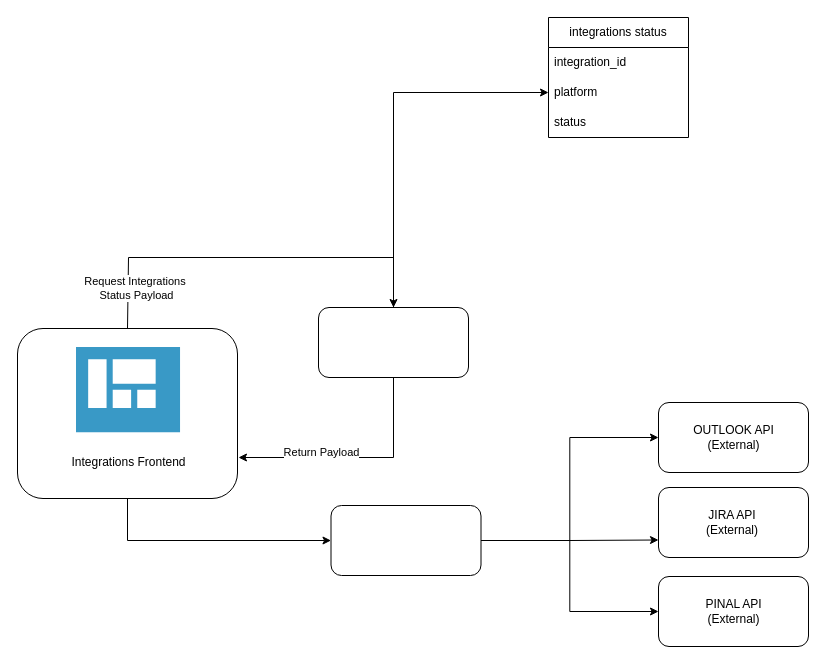
This 826x664 diagram has some shape labels left out. The shapes that lost their labels are listed below. From the top down, each one's box as (x1, y1, x2, y2) in pixels, then its label:
(318, 306, 468, 378): /integrations/status (ReSQL Endpoint)
(330, 504, 481, 576): /integrations/manage
